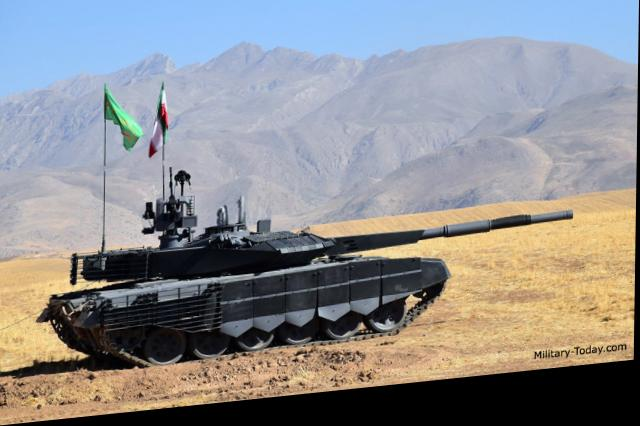tank: (47, 163, 448, 385)
